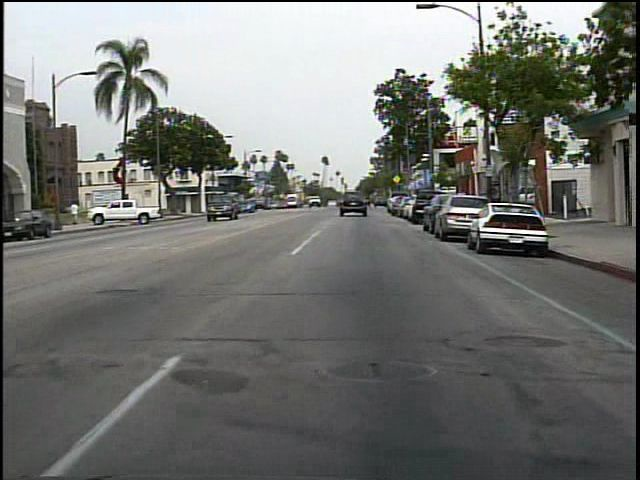person: (70, 199, 83, 228), (369, 189, 382, 215)
